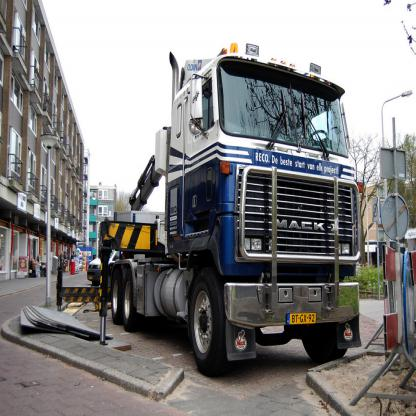Truck: (100, 46, 364, 381)
